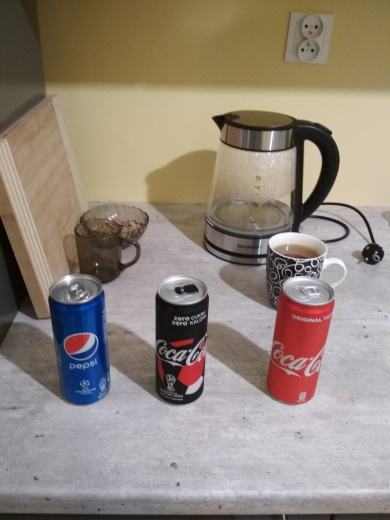cola: (266, 274, 336, 410)
colazero: (147, 272, 220, 412)
pepsi: (43, 267, 123, 410)
